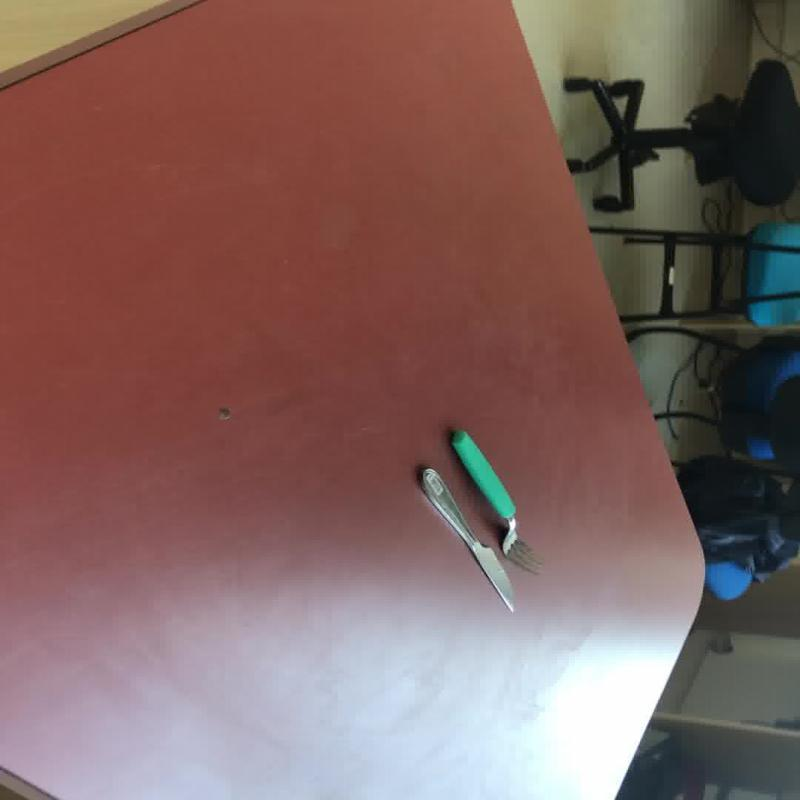fork: (447, 428, 541, 574)
knife: (416, 466, 514, 612)
